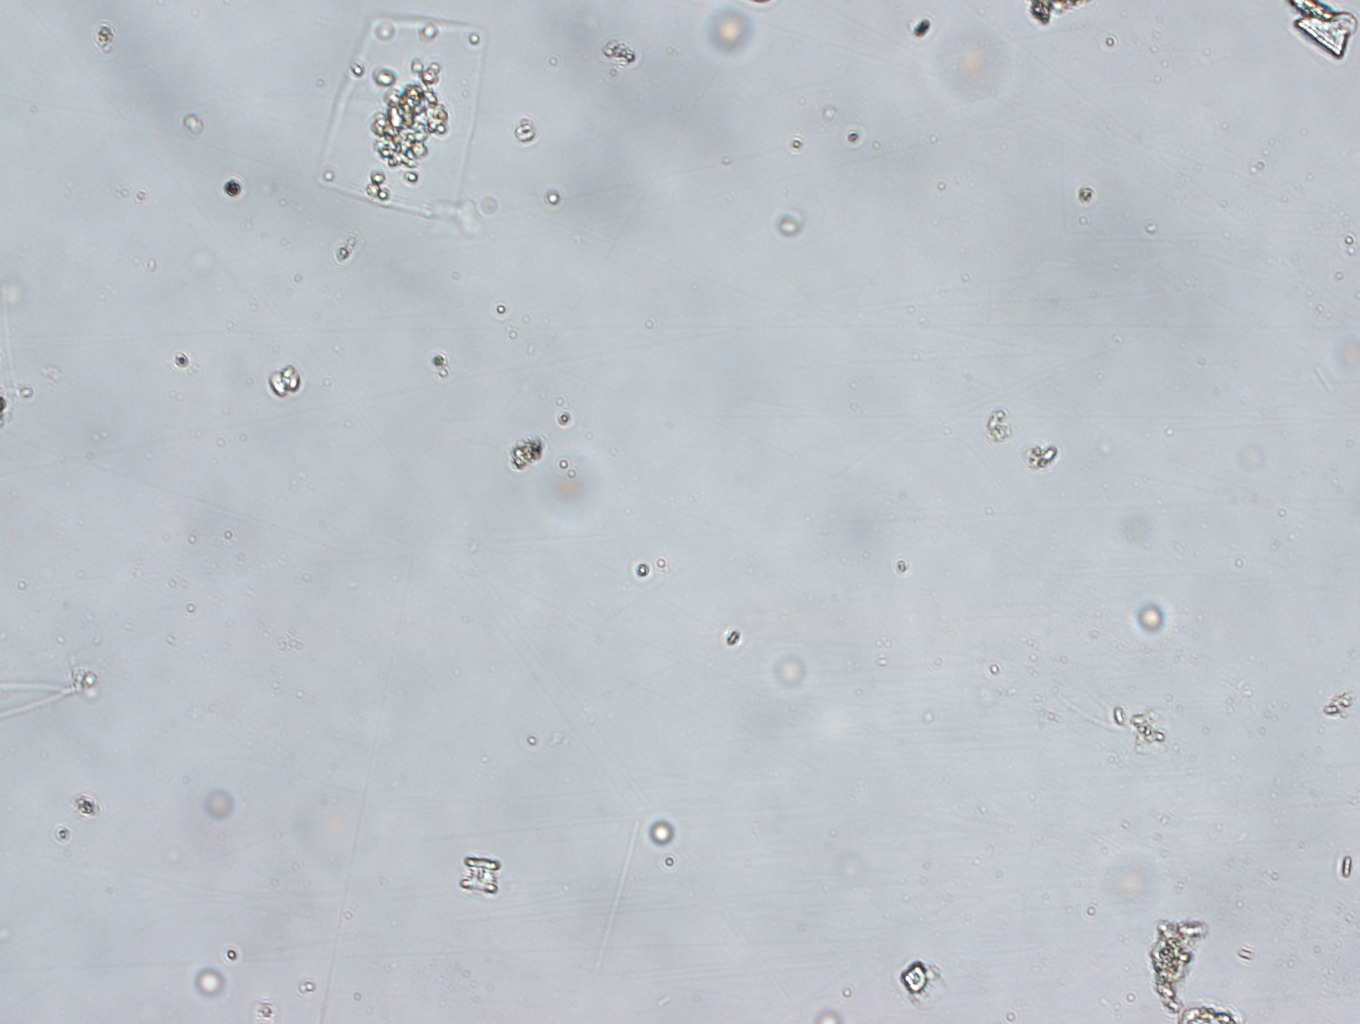helicotheca: (309, 10, 500, 228)
